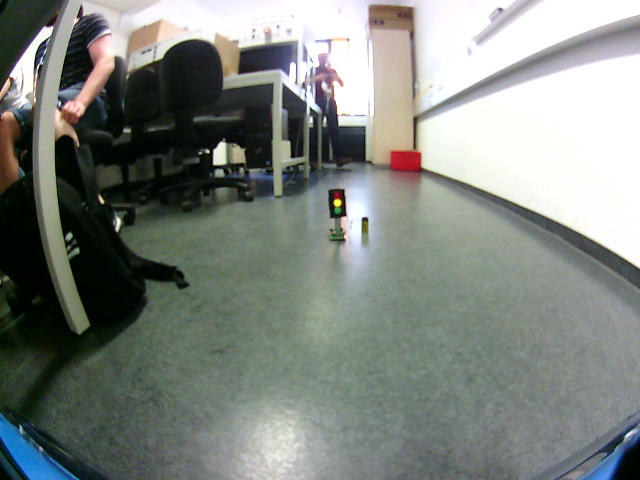yellow trafficlight: (329, 191, 345, 217)
